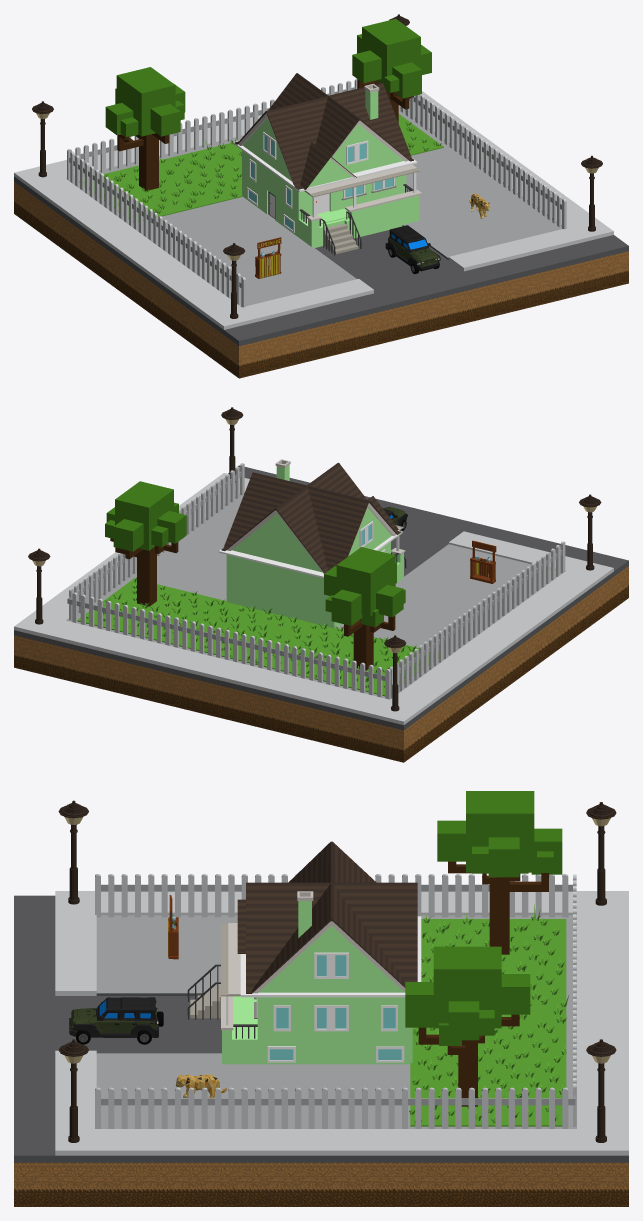
3 views of the same model, one above another, from view 1: azimuth 30°, elevation 25°; view 2: azimuth 150°, elevation 25°; view 3: azimuth 270°, elevation 25° (orthographic). The views are drawn at different scales.
Parts seen in each view (by area): view 1: Cube.004, Cube.274, VEHICLES_JEEP, OBJRANDOM_LEMONADE_STAND; view 2: Cube.004, Cube.274, OBJRANDOM_LEMONADE_STAND; view 3: Cube.004, Cube.274, VEHICLES_JEEP, ANIMAL_JAGUAR.
Boxes of the visible parts, box(x1,y1,x2,y2) form: Cube.004: box(14, 14, 628, 378); Cube.274: box(233, 73, 422, 255); VEHICLES_JEEP: box(385, 225, 440, 274); OBJRANDOM_LEMONADE_STAND: box(255, 237, 281, 278); Cube.004: box(14, 407, 628, 762); Cube.274: box(218, 459, 406, 627); OBJRANDOM_LEMONADE_STAND: box(470, 540, 496, 583); Cube.004: box(14, 791, 628, 1206); Cube.274: box(187, 841, 421, 1064); VEHICLES_JEEP: box(69, 997, 163, 1044); ANIMAL_JAGUAR: box(175, 1074, 226, 1098).
Bounding box in the file's own units: 4000 × 1624 × 4000.
Materials: 40 (4 with a texture image).
